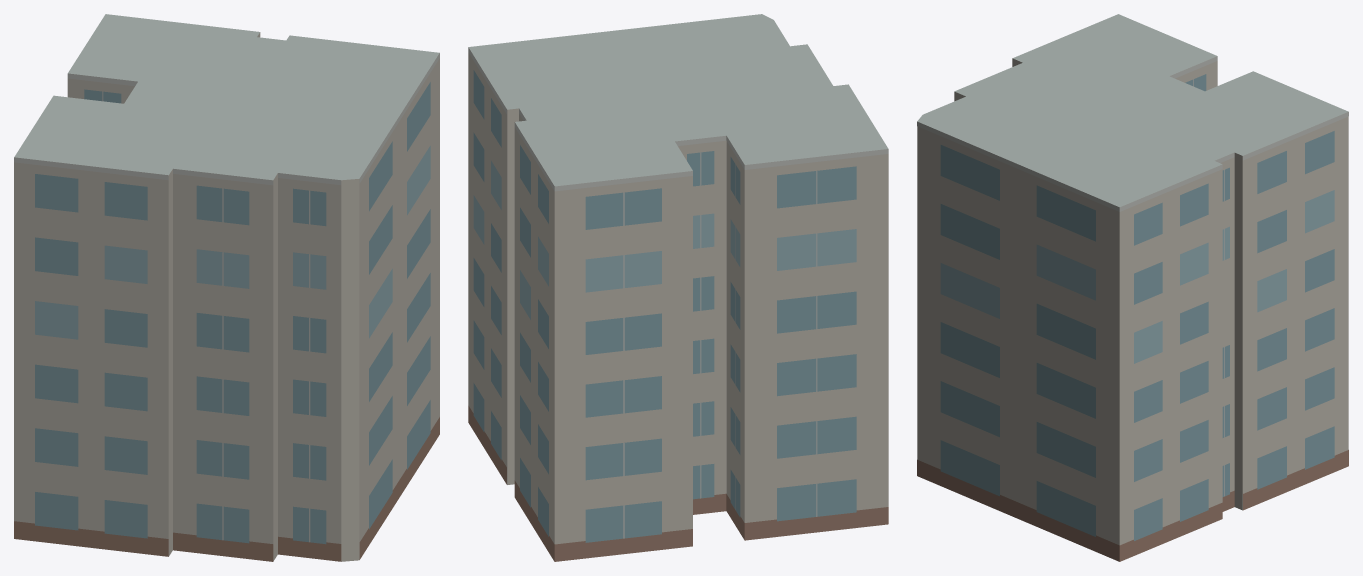
File: survey-upis-32926752.glb
3 renders of one model, left to right at view 1: azimuth 30°, elevation 25°; view 2: azimuth 150°, elevation 25°; view 3: azimuth 270°, elevation 25°, orthographic. The views are drawn at different scales.
Visible parts, largest first — view 1: survey-upis-32926752.tmp; view 2: survey-upis-32926752.tmp; view 3: survey-upis-32926752.tmp.
Part boxes in pixels (x1,y1,x2,y2): survey-upis-32926752.tmp: [14, 14, 439, 561]; survey-upis-32926752.tmp: [468, 14, 888, 561]; survey-upis-32926752.tmp: [917, 14, 1348, 561].
Bounding box in the file's own units: 21.53 × 18.4 × 20.31.
